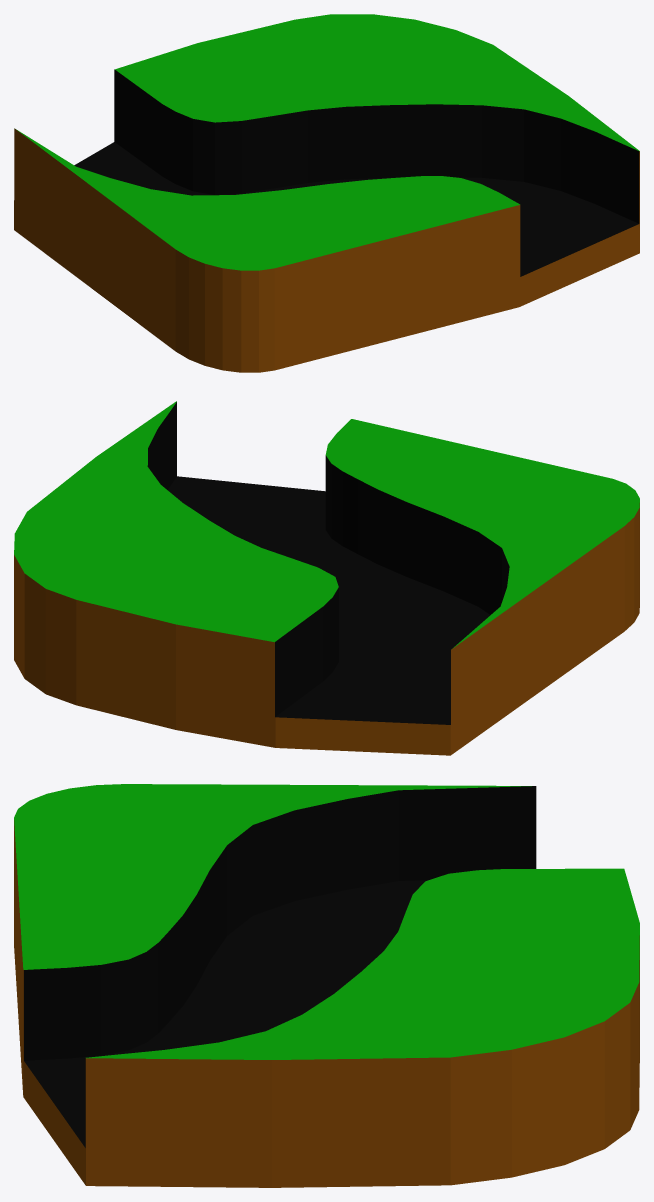
Rendered from rio.fbx.
3 renders of one model, top to bottom at view 1: azimuth 30°, elevation 25°; view 2: azimuth 150°, elevation 25°; view 3: azimuth 270°, elevation 25°, orthographic. The views are drawn at different scales.
Visible parts, largest first — view 1: Cube, Cube.001; view 2: Cube, Cube.001; view 3: Cube, Cube.001.
Boxes of the visible parts, box(x1,y1,x2,y2) form: Cube: box(14, 69, 639, 372); Cube.001: box(16, 14, 639, 270); Cube: box(14, 402, 639, 755); Cube.001: box(14, 401, 639, 648); Cube: box(14, 786, 639, 1187); Cube.001: box(14, 784, 639, 1059).
Bounding box in the file's own units: 100 × 21.68 × 96.23.
